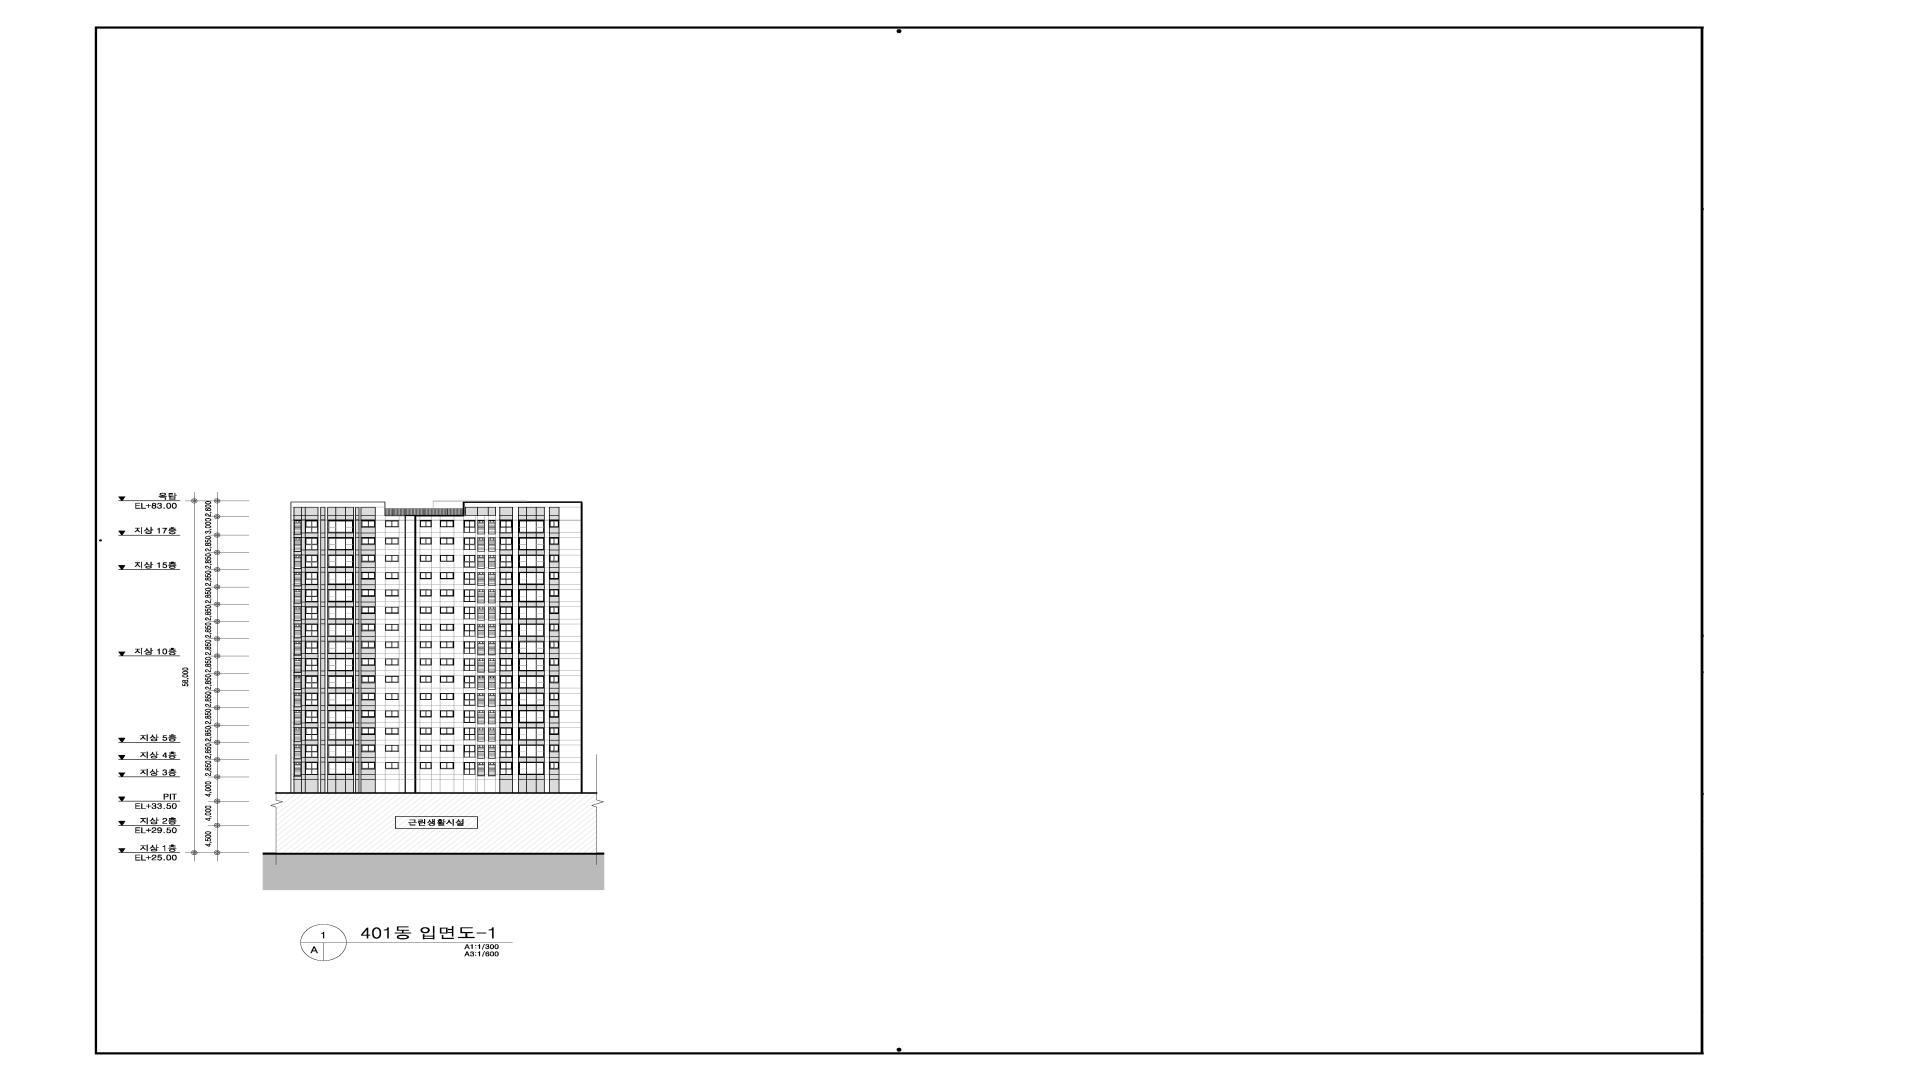wall: (276, 501, 597, 855)
window: (518, 727, 545, 741), (518, 606, 545, 620), (327, 744, 354, 758), (518, 744, 545, 758), (327, 675, 354, 688), (327, 555, 354, 568), (327, 537, 354, 550), (327, 520, 354, 533), (327, 658, 354, 671), (327, 641, 354, 654), (518, 710, 545, 723), (518, 693, 545, 706), (518, 675, 545, 688), (518, 555, 545, 568), (518, 520, 545, 533), (518, 624, 545, 637), (518, 589, 545, 602), (327, 762, 354, 775), (518, 658, 545, 671), (327, 727, 354, 740), (327, 710, 354, 723), (327, 693, 354, 706), (327, 624, 354, 637), (327, 606, 354, 619), (327, 589, 354, 602), (327, 572, 354, 585), (518, 762, 545, 775), (518, 537, 545, 550), (518, 641, 545, 654), (518, 572, 545, 585), (500, 606, 513, 620), (305, 606, 318, 620), (500, 744, 513, 758), (500, 727, 513, 741), (500, 693, 513, 706), (500, 658, 513, 671), (500, 641, 513, 654), (500, 624, 513, 637), (500, 589, 513, 602), (500, 572, 513, 585), (305, 675, 318, 688), (305, 658, 318, 671), (305, 641, 318, 654), (305, 624, 318, 637), (305, 589, 318, 602), (463, 710, 476, 723), (463, 693, 476, 706), (500, 762, 513, 775), (500, 710, 513, 723), (305, 572, 318, 585), (305, 555, 318, 568), (305, 537, 318, 550), (305, 520, 318, 533), (500, 675, 513, 688), (500, 555, 513, 568), (500, 537, 513, 550), (500, 520, 513, 533), (305, 762, 318, 775), (305, 745, 318, 758), (305, 728, 318, 741), (305, 710, 318, 723), (305, 693, 318, 706), (463, 676, 476, 688), (463, 658, 475, 671), (463, 641, 475, 654), (464, 589, 476, 602), (464, 572, 476, 585), (463, 555, 475, 568), (463, 537, 475, 550), (463, 520, 475, 533), (463, 762, 475, 775), (463, 745, 475, 758), (463, 728, 476, 740), (464, 624, 476, 636), (463, 607, 475, 619), (360, 641, 376, 649), (294, 606, 302, 621), (294, 762, 302, 777), (294, 710, 302, 725), (294, 675, 302, 690), (294, 658, 302, 673), (294, 641, 302, 656), (294, 537, 302, 552), (361, 727, 376, 735), (361, 710, 376, 718), (361, 658, 376, 666), (361, 606, 376, 614), (361, 589, 376, 597), (361, 572, 376, 580), (361, 520, 376, 528), (361, 675, 376, 683), (294, 624, 302, 638), (294, 589, 302, 603), (294, 572, 302, 586), (294, 555, 302, 569), (477, 762, 485, 776), (488, 762, 496, 776), (477, 745, 485, 759), (488, 745, 496, 759), (477, 710, 485, 724), (477, 693, 485, 707), (477, 676, 485, 690), (488, 676, 496, 690), (488, 658, 496, 672), (477, 658, 485, 672), (440, 589, 454, 597), (440, 537, 454, 545), (294, 745, 302, 759), (294, 727, 302, 741), (294, 693, 302, 707), (294, 520, 302, 534), (360, 762, 376, 769), (477, 641, 485, 655), (488, 641, 496, 655), (477, 624, 485, 638), (488, 624, 496, 638), (477, 607, 485, 621), (488, 607, 496, 621), (477, 589, 485, 603), (488, 589, 496, 603), (477, 572, 485, 586), (488, 572, 496, 586), (477, 555, 485, 569), (477, 537, 485, 551), (477, 520, 485, 534), (488, 520, 496, 534), (440, 727, 454, 735), (361, 745, 376, 752), (361, 624, 376, 631), (361, 537, 376, 544), (361, 555, 376, 562), (361, 693, 376, 700), (488, 728, 496, 741), (477, 728, 485, 741), (488, 711, 496, 724), (488, 538, 496, 551), (488, 693, 495, 707), (440, 710, 454, 717), (440, 693, 454, 700), (440, 676, 454, 683), (440, 658, 454, 665), (440, 641, 454, 648), (440, 624, 454, 631), (440, 607, 454, 614), (440, 572, 454, 579), (440, 555, 454, 562), (440, 520, 454, 527), (385, 762, 399, 769), (385, 745, 399, 752), (385, 728, 399, 735), (385, 693, 399, 700), (385, 676, 399, 683), (385, 641, 399, 648), (385, 624, 399, 631), (385, 607, 399, 614), (488, 555, 495, 569), (385, 572, 399, 579), (385, 555, 399, 562), (385, 520, 399, 527), (440, 762, 454, 769), (440, 745, 454, 752), (420, 589, 432, 597), (420, 537, 432, 545), (549, 520, 560, 528), (549, 675, 560, 683), (420, 762, 432, 769), (420, 745, 432, 752), (420, 728, 432, 735), (420, 710, 432, 717), (420, 693, 432, 700), (420, 676, 432, 683), (420, 658, 432, 665), (420, 641, 432, 648), (420, 624, 432, 631), (385, 711, 399, 717), (385, 659, 399, 665), (385, 590, 399, 596), (385, 538, 399, 544), (420, 607, 432, 614), (420, 572, 432, 579), (420, 555, 432, 562), (420, 520, 432, 527), (549, 727, 559, 735), (549, 710, 559, 718), (549, 658, 559, 666), (549, 641, 559, 649), (549, 606, 559, 614), (549, 589, 559, 597), (549, 572, 559, 580), (549, 762, 559, 769), (549, 745, 559, 752), (549, 624, 559, 631), (549, 537, 559, 544), (549, 555, 559, 562), (549, 693, 559, 700)
